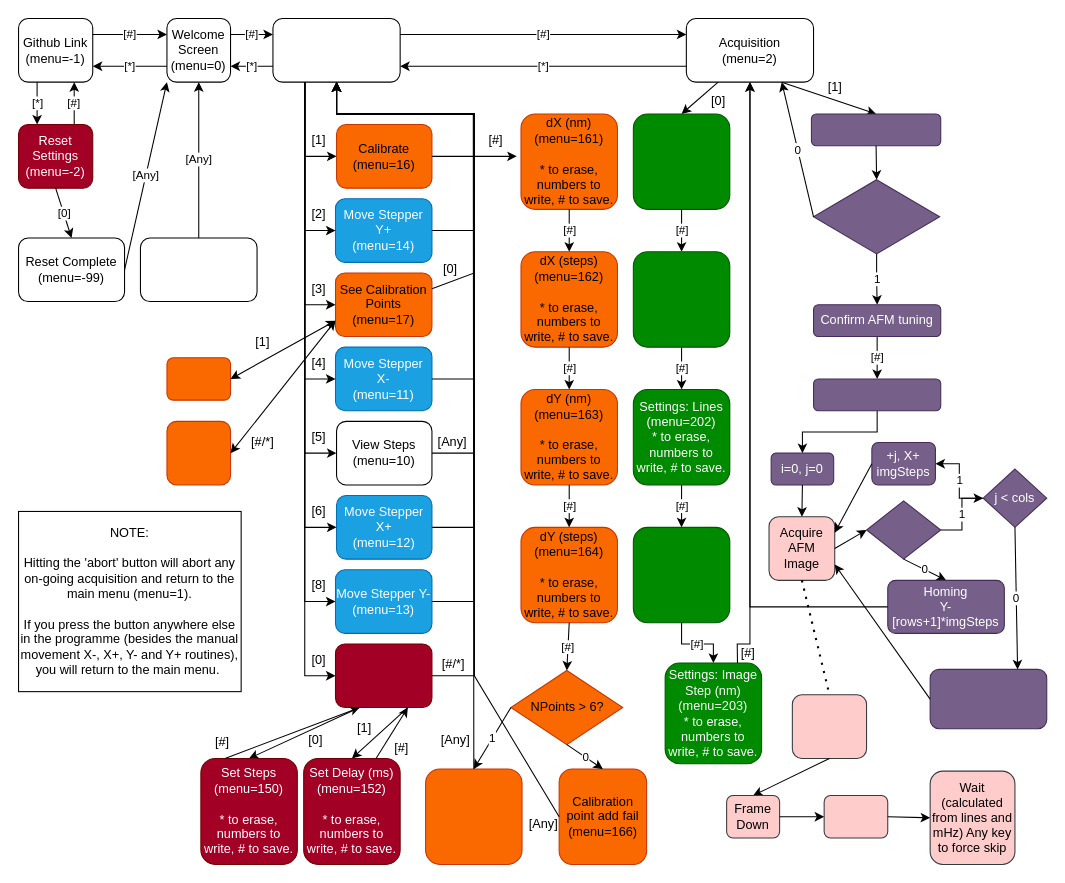
Image size: 1065x883. Some labels were removed from this diagram. The centre of each missing label's shape, as x and y in pixels:
"(menu 21)" goes at [875,129].
"+i, j=0, X- cols*imgSteps, Y+ imgSteps" goes at [988,698].
"Calibrated?" goes at [876,216].
"Calibration point add success (menu=165) (+1 Npoints)" goes at [473,816].
"Capture +Withdraw" goes at [855,816].
"Confirm AFM Hz" goes at [876,394].
"Delete point" goes at [198,378].
"Engage (timer) Any key to force skip" goes at [829,726].
"Error screen (menu=undefined)" goes at [198,269].
"i < rows" goes at [903,529].
"Manual/Calibration (menu=1)" goes at [336,49].
"Movement Settings (menu=15)" goes at [383,675].
"Scroll between points" goes at [198,452].
"Settings: Cols (menu=201) * to erase, numbers to write, # to save." goes at [681,299].
"Settings: mHz (menu=203) * to erase, numbers to write, # to save." goes at [681,574].
"Settings: Rows (menu=200) * to erase, numbers to write, # to save." goes at [681,161].
